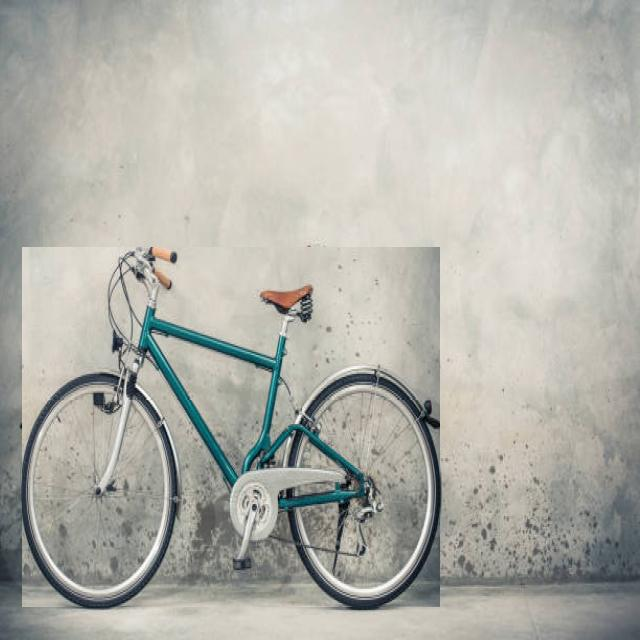bicycle: (22, 247, 440, 607)
